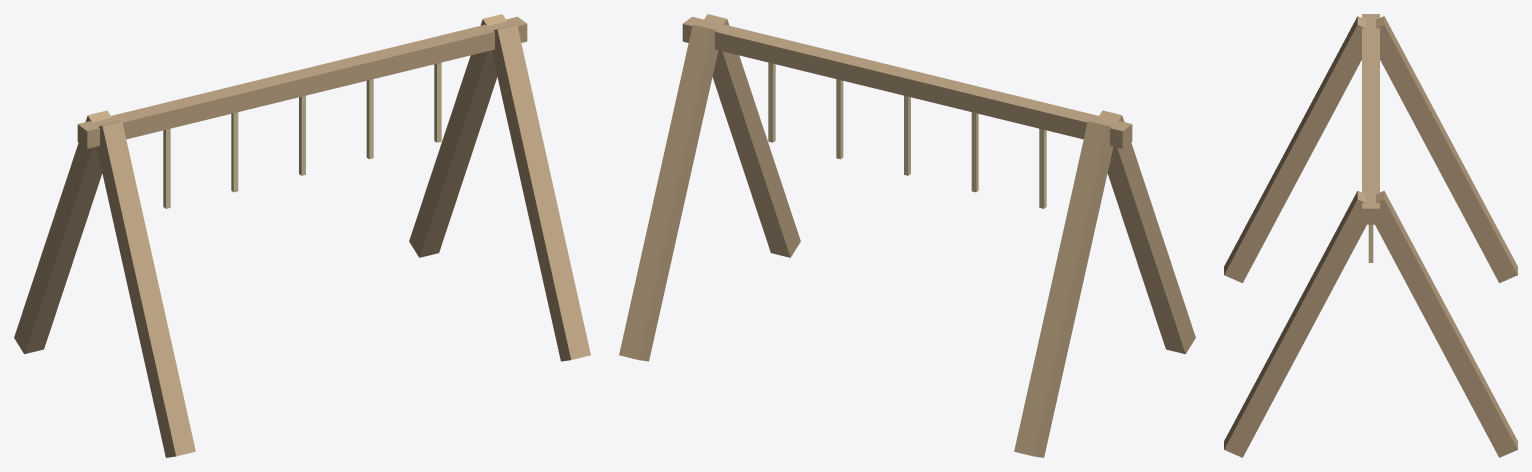
The model's file is prop-rush-dip-frame.fbx.
3 renders of one model, left to right at view 1: azimuth 30°, elevation 25°; view 2: azimuth 150°, elevation 25°; view 3: azimuth 270°, elevation 25°, orthographic. The views are drawn at different scales.
Parts seen in each view (by area): view 1: prop-rush-dip-frame; view 2: prop-rush-dip-frame; view 3: prop-rush-dip-frame.
Part boxes in pixels (<box>): prop-rush-dip-frame: <box>14,14,590,457</box>; prop-rush-dip-frame: <box>619,14,1195,457</box>; prop-rush-dip-frame: <box>1224,14,1517,457</box>.
Bounding box in the file's own units: 78 × 48.35 × 49.77.
